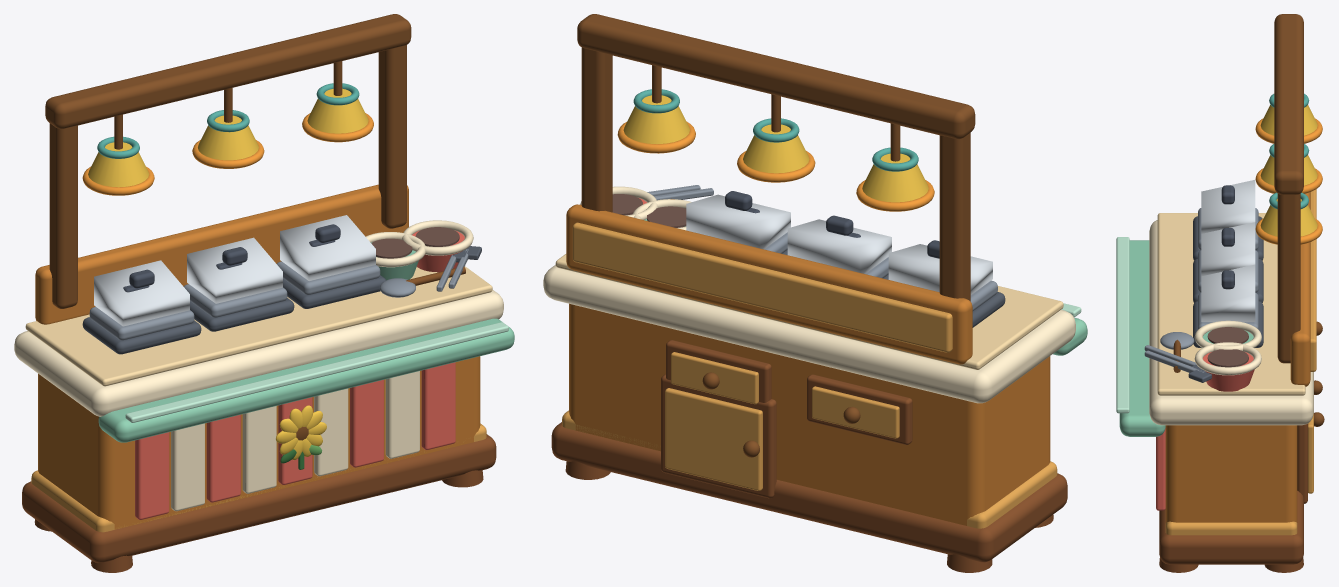
Rendered from hot-food-counter.glb.
The picture shows the model from 3 angles, left to right: view 1: azimuth 30°, elevation 25°; view 2: azimuth 150°, elevation 25°; view 3: azimuth 270°, elevation 25°; orthographic projection. The views are drawn at different scales.
Visible parts, largest first — view 1: closed-plinth-and-feet-surface-0, worktop-and-serving-ledge-surface-0, counter-body-surface-0, worktop-and-serving-ledge-surface-2, overhead-rail-and-three-lamps-surface-4, covered-hot-tray-surface-4 (×3), finished-backsplash-surface-0, worktop-and-serving-ledge-surface-4, warm-pendant-lamp-surface-2 (×3), overhead-rail-and-three-lamps-surface-0, overhead-rail-and-three-lamps-surface-2, covered-hot-tray-surface-0 (×3) (+15 smaller); view 2: counter-body-surface-0, worktop-and-serving-ledge-surface-0, finished-backsplash-surface-2, closed-plinth-and-feet-surface-0, overhead-rail-and-three-lamps-surface-4, finished-backsplash-surface-0, covered-hot-tray-surface-4 (×3), rear-storage-surface-14, warm-pendant-lamp-surface-2 (×3), overhead-rail-and-three-lamps-surface-0, overhead-rail-and-three-lamps-surface-2, worktop-and-serving-ledge-surface-2 (+8 smaller); view 3: counter-body-surface-0, worktop-and-serving-ledge-surface-2, covered-hot-tray-surface-4 (×3), worktop-and-serving-ledge-surface-0, overhead-rail-and-three-lamps-surface-4, closed-plinth-and-feet-surface-0, worktop-and-serving-ledge-surface-4, overhead-rail-and-three-lamps-surface-2, worktop-and-serving-ledge-surface-6, finished-backsplash-surface-0, warm-pendant-lamp-surface-2 (×3), serving-bowl-surface-2 (×2) (+15 smaller).
Part boxes in pixels (box(x1,y1,x2,y2)): closed-plinth-and-feet-surface-0: box(22, 434, 496, 562); worktop-and-serving-ledge-surface-0: box(14, 290, 503, 416); counter-body-surface-0: box(38, 356, 480, 529); worktop-and-serving-ledge-surface-2: box(25, 266, 492, 386); overhead-rail-and-three-lamps-surface-4: box(45, 14, 411, 129); covered-hot-tray-surface-4 (×3): box(94, 215, 375, 326); finished-backsplash-surface-0: box(35, 184, 408, 324); worktop-and-serving-ledge-surface-4: box(98, 318, 514, 442); warm-pendant-lamp-surface-2 (×3): box(88, 88, 368, 187); overhead-rail-and-three-lamps-surface-0: box(49, 123, 77, 308); overhead-rail-and-three-lamps-surface-2: box(378, 45, 406, 228); covered-hot-tray-surface-0 (×3): box(82, 275, 386, 354); counter-body-surface-0: box(569, 303, 1050, 525); worktop-and-serving-ledge-surface-0: box(543, 265, 1075, 403); finished-backsplash-surface-2: box(572, 222, 952, 352); closed-plinth-and-feet-surface-0: box(551, 422, 1067, 562); overhead-rail-and-three-lamps-surface-4: box(577, 14, 975, 139); finished-backsplash-surface-0: box(566, 204, 972, 364); covered-hot-tray-surface-4 (×3): box(686, 194, 992, 294); rear-storage-surface-14: box(665, 388, 762, 490); warm-pendant-lamp-surface-2 (×3): box(623, 95, 928, 202); overhead-rail-and-three-lamps-surface-0: box(939, 133, 970, 301); overhead-rail-and-three-lamps-surface-2: box(581, 47, 612, 212); worktop-and-serving-ledge-surface-2: box(555, 254, 1063, 369); counter-body-surface-0: box(1165, 425, 1297, 522); worktop-and-serving-ledge-surface-2: box(1157, 213, 1305, 395); covered-hot-tray-surface-4 (×3): box(1201, 180, 1255, 321); worktop-and-serving-ledge-surface-0: box(1149, 220, 1313, 425); overhead-rail-and-three-lamps-surface-4: box(1274, 14, 1303, 194); closed-plinth-and-feet-surface-0: box(1159, 491, 1303, 564); worktop-and-serving-ledge-surface-4: box(1119, 240, 1165, 436); overhead-rail-and-three-lamps-surface-2: box(1277, 193, 1300, 363); worktop-and-serving-ledge-surface-6: box(1116, 237, 1129, 413); finished-backsplash-surface-0: box(1290, 192, 1310, 386); warm-pendant-lamp-surface-2 (×3): box(1260, 105, 1317, 236); serving-bowl-surface-2 (×2): box(1194, 320, 1261, 375).
Size of the model in its own units: 1.75 by 1.69 by 0.8151.
